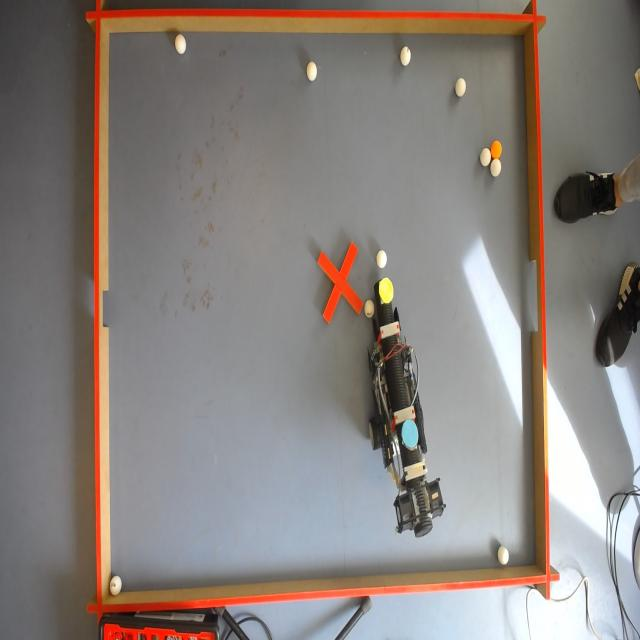orange: (494, 139, 503, 156)
robot: (371, 308, 431, 540)
robot-front: (378, 280, 395, 302)
robot-rear: (398, 418, 420, 452)
white: (499, 544, 513, 567), (172, 34, 186, 56), (400, 44, 413, 66), (110, 577, 124, 595), (364, 298, 375, 319), (306, 61, 318, 80), (455, 79, 467, 97), (376, 251, 387, 269), (480, 149, 490, 167), (492, 160, 503, 175)
